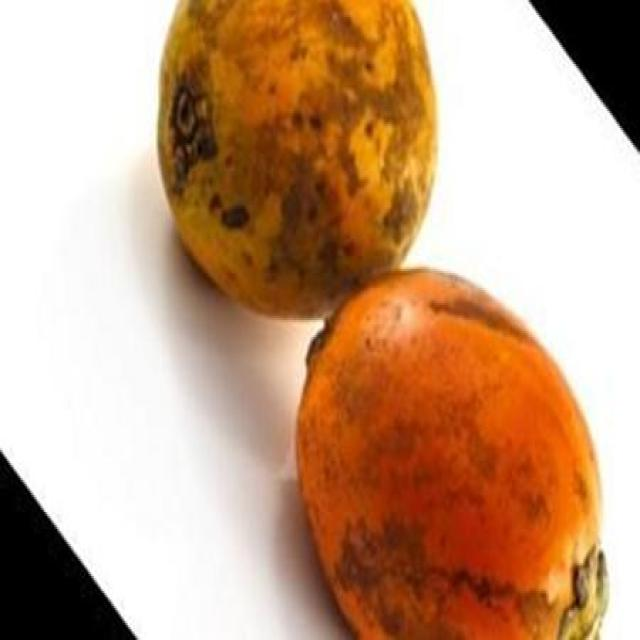good: (294, 269, 609, 638), (156, 0, 439, 324)
